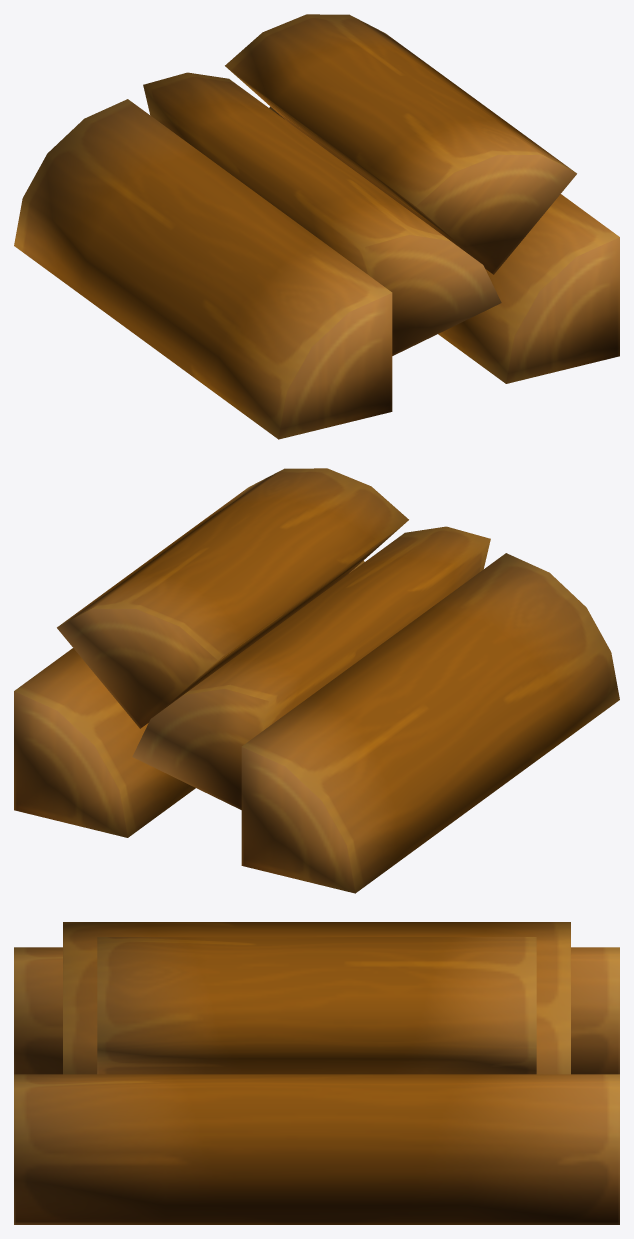
Rendered from Troncos 01.fbx.
3 views of the same model, one above another, from view 1: azimuth 30°, elevation 25°; view 2: azimuth 150°, elevation 25°; view 3: azimuth 270°, elevation 25° (orthographic). The views are drawn at different scales.
Visible parts, largest first — view 1: Tronco.001; view 2: Tronco.001; view 3: Tronco.001.
Boxes of the visible parts, <box> form: Tronco.001: <box>14,14,619,439</box>; Tronco.001: <box>14,468,619,893</box>; Tronco.001: <box>14,922,619,1224</box>.
Bounding box in the file's own units: 94.54 × 51.78 × 127.
